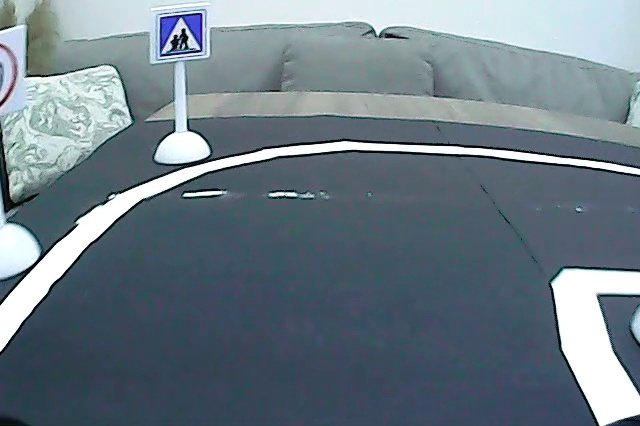school crossing: (155, 8, 205, 58)
